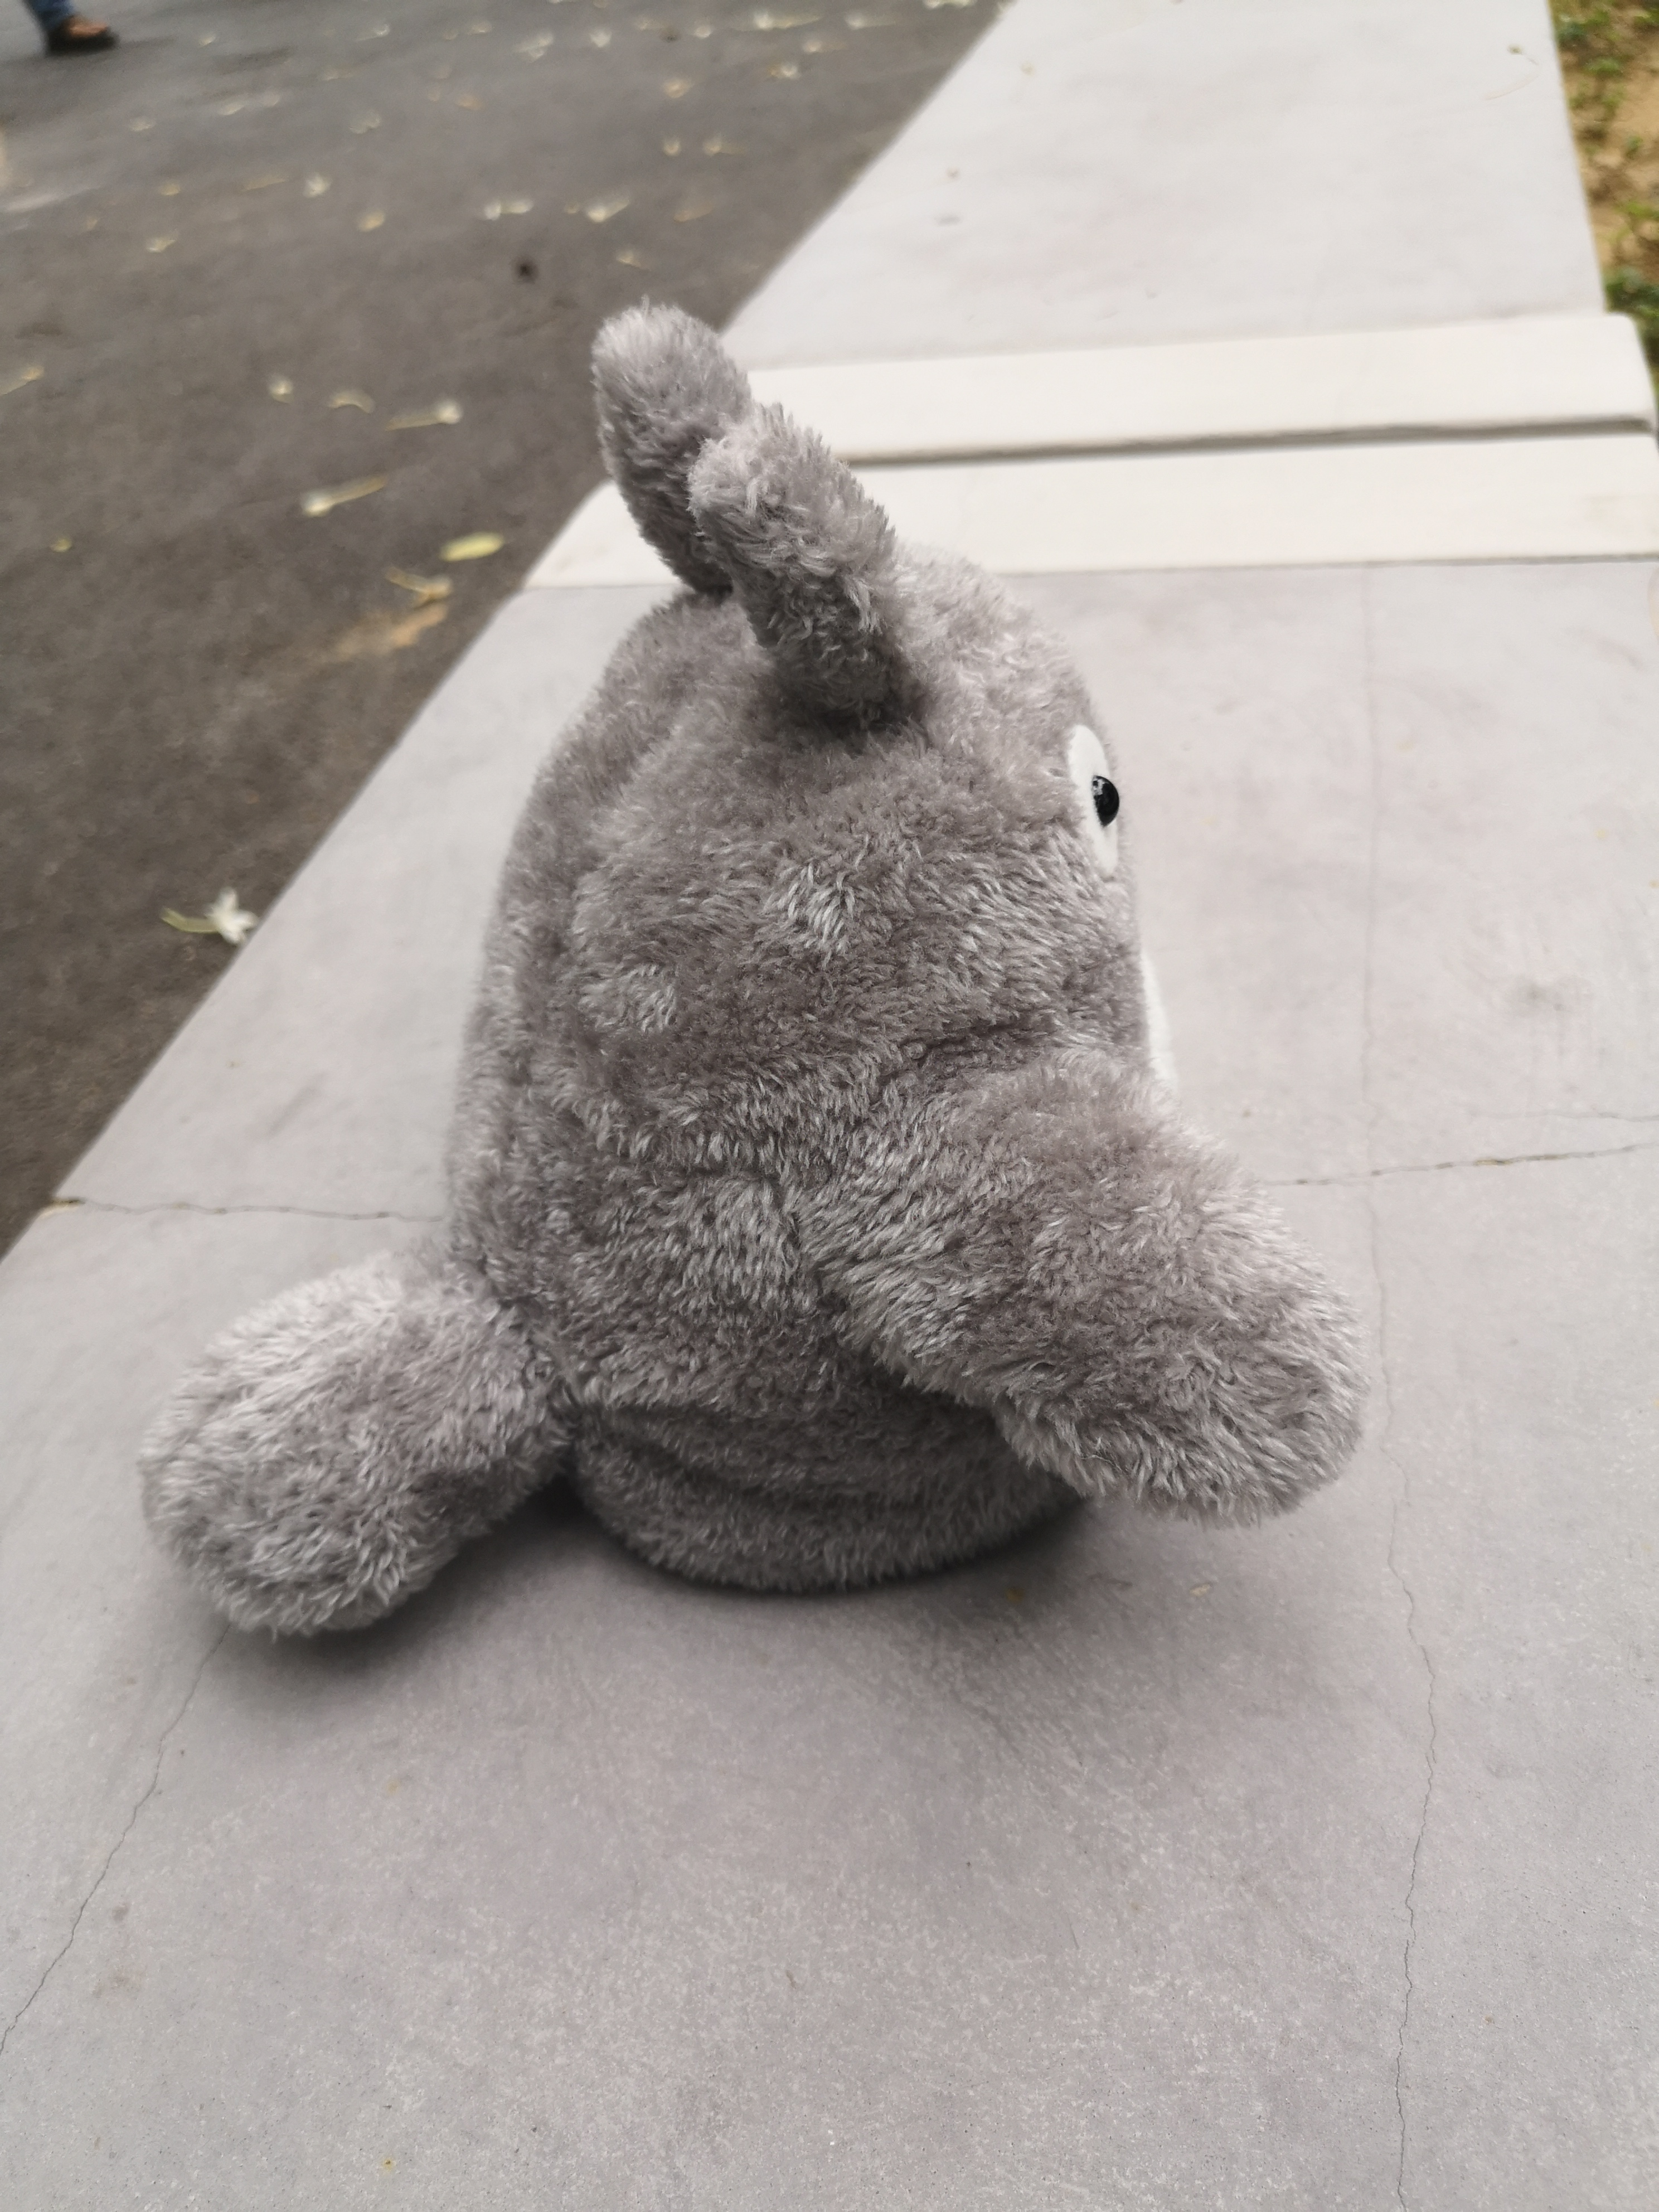totoro: (125, 294, 1377, 1684)
